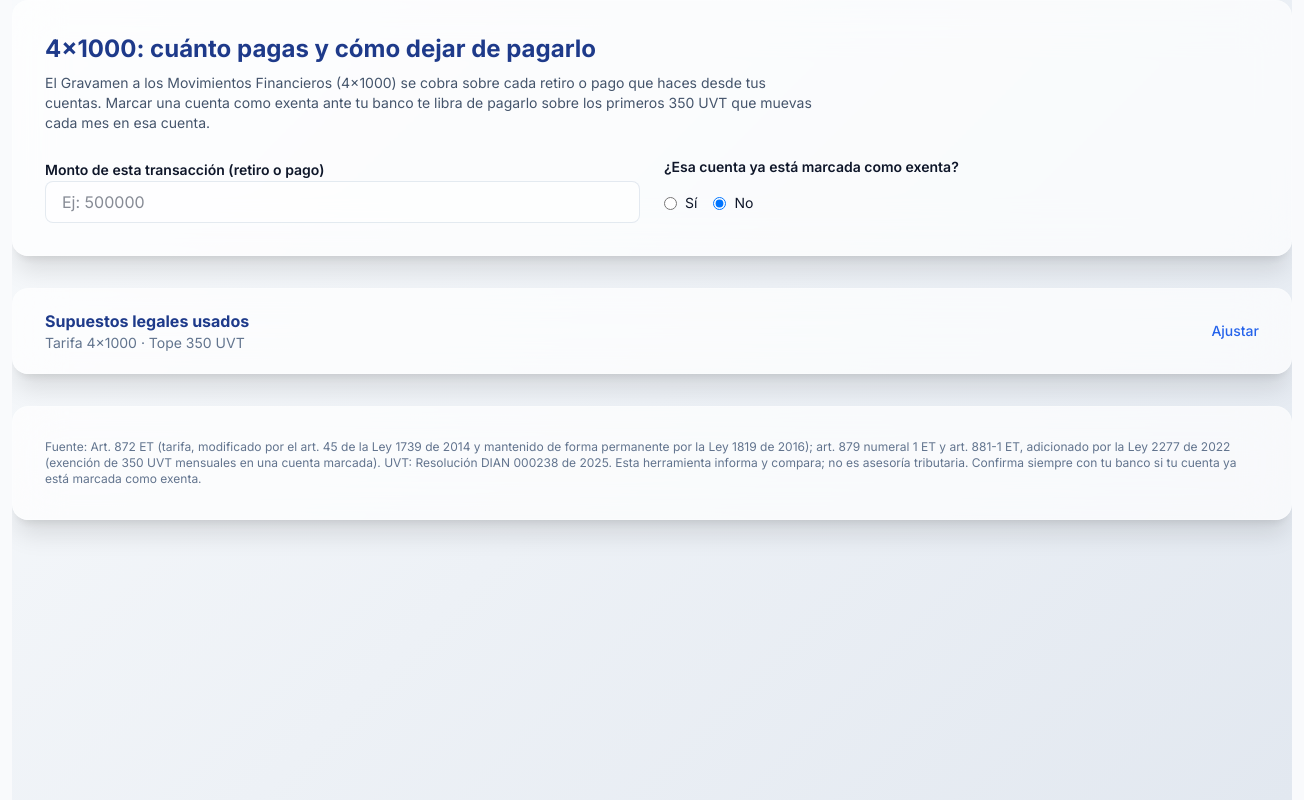
it: CalculadoraGMF › el resultado principal es el GMF de la transacción, no una proyección anual
The image size is (1304, 800).
Step 1. Type "500000" into the number field labelled "Monto de esta transacción (retiro o pago)" → (342, 202), box 45,181 -> 640,223
(page scrolled)
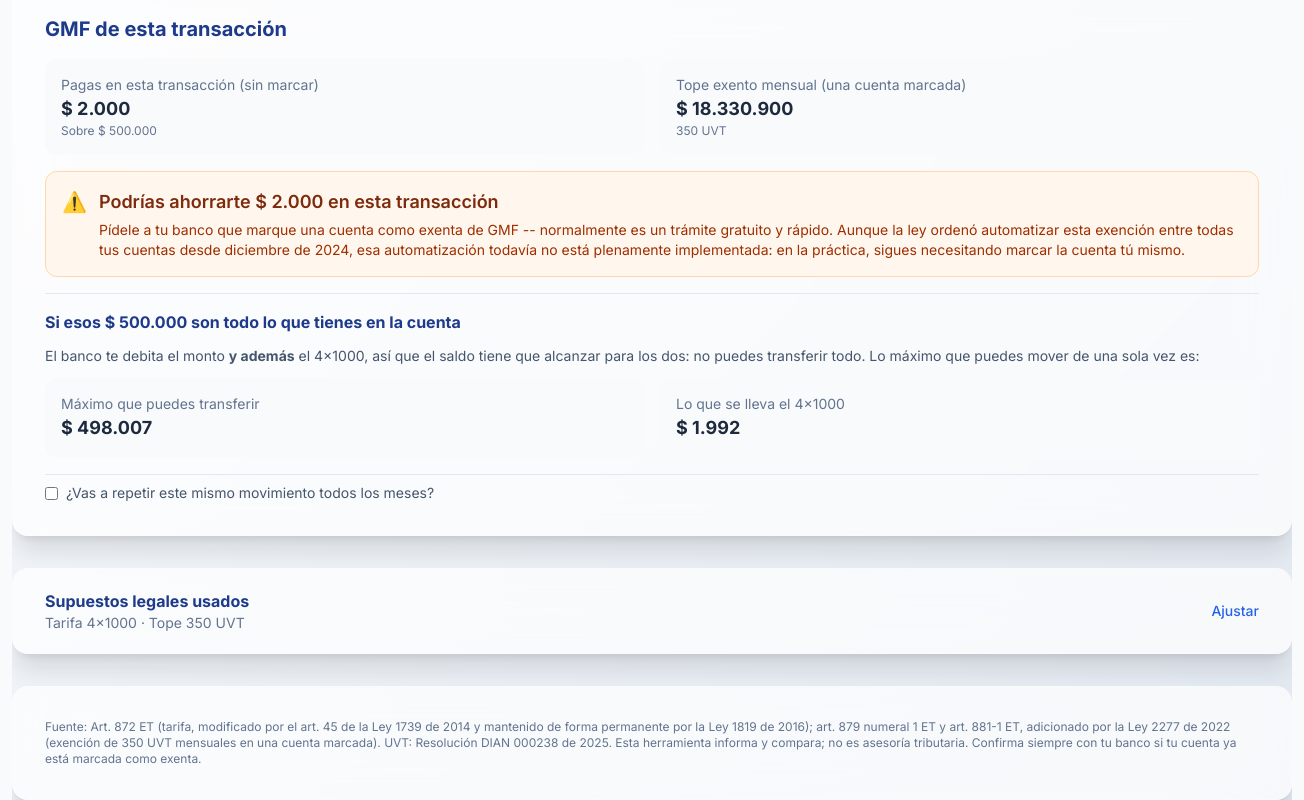
Check: the heading "GMF de esta transacción" is shown, box 45,17 -> 287,41
Check: the text "$ 2.000" is shown, box 61,98 -> 130,119
Check: the checkbox labelled "¿Vas a repetir este mismo movimiento todos los meses?" is not checked, box 45,486 -> 58,500
